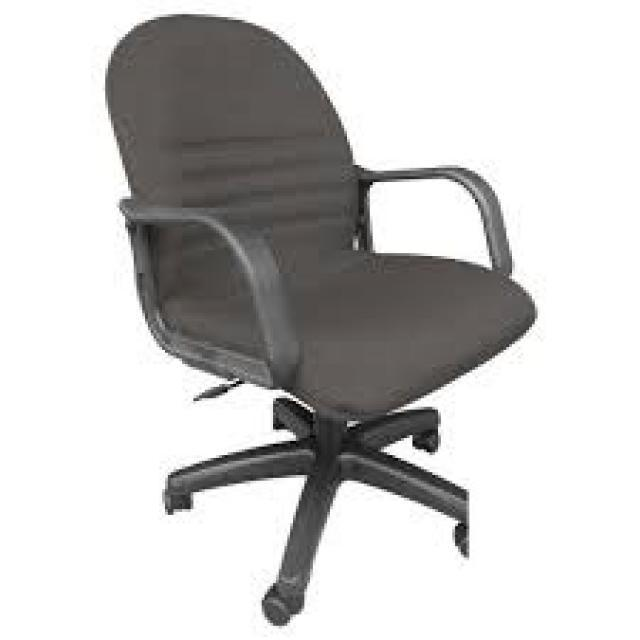chair: (102, 11, 540, 628)
